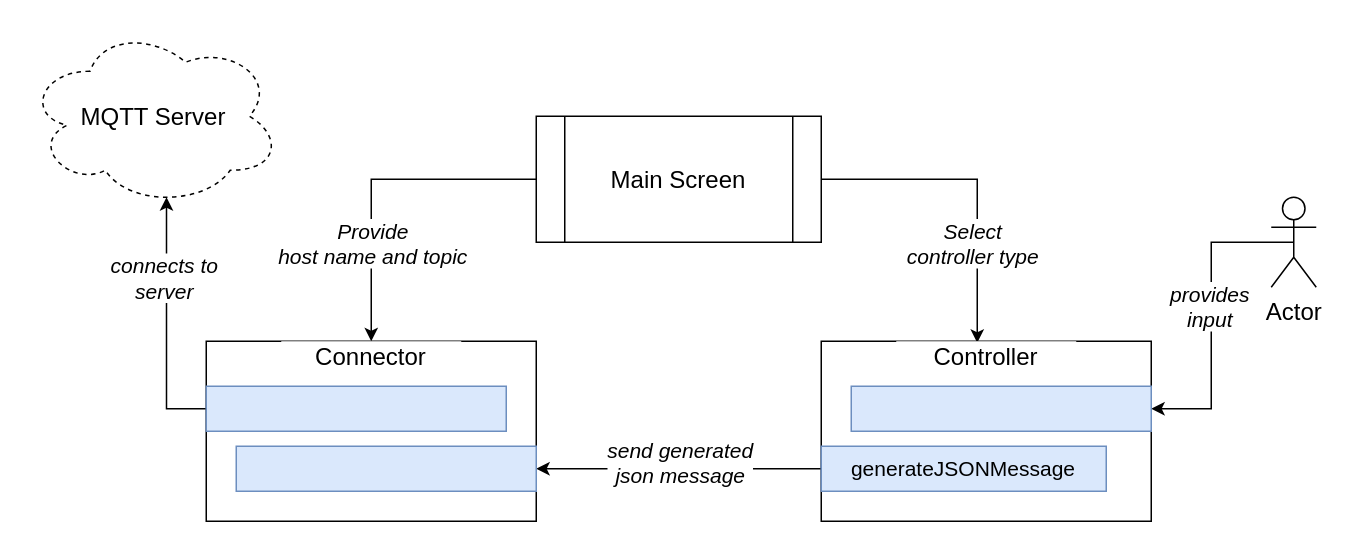
Some shapes in this 1347 by 548 pixel diagram are drawn without their labels. Here are the shapes that lost their labels. From the top down, the centre of each, then its label:
At (x=355, y=408): "connectToBroker".
At (x=1000, y=408): "changeSpeedAndDirection".
At (x=385, y=468): "sendData".
